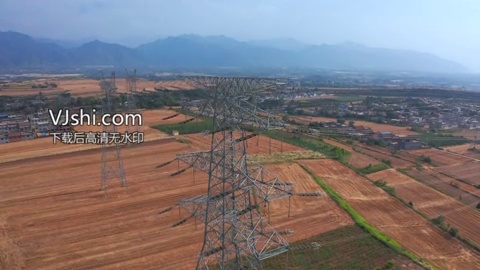tower_body: (170, 69, 294, 270)
tower_foot: (196, 244, 252, 270)
tower_head: (174, 72, 289, 130)
